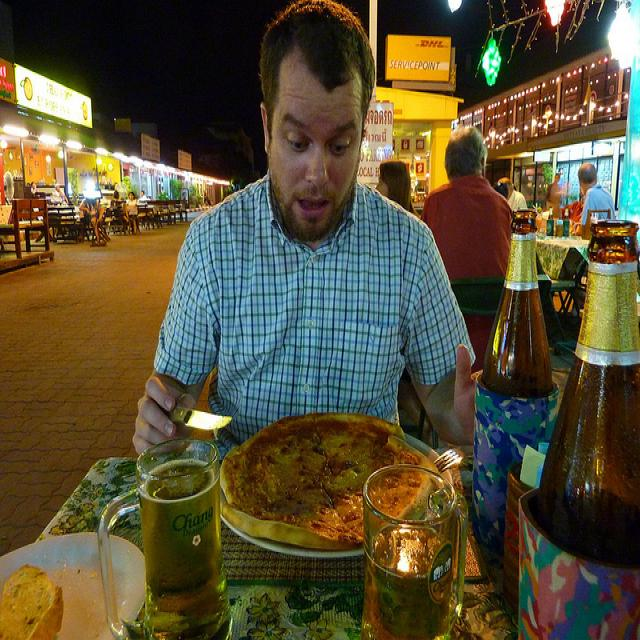chair: (536, 252, 579, 327), (449, 277, 505, 316), (108, 205, 127, 236), (98, 207, 111, 242), (137, 205, 152, 230), (152, 206, 163, 228), (169, 205, 176, 225)
dining table: (536, 235, 589, 288)
